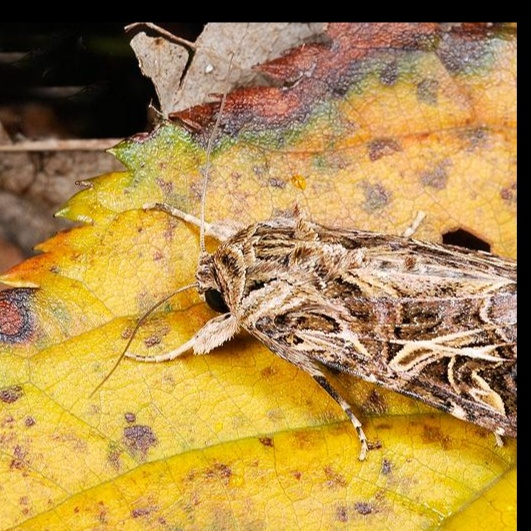Spodoptera litura: (87, 50, 516, 462)
